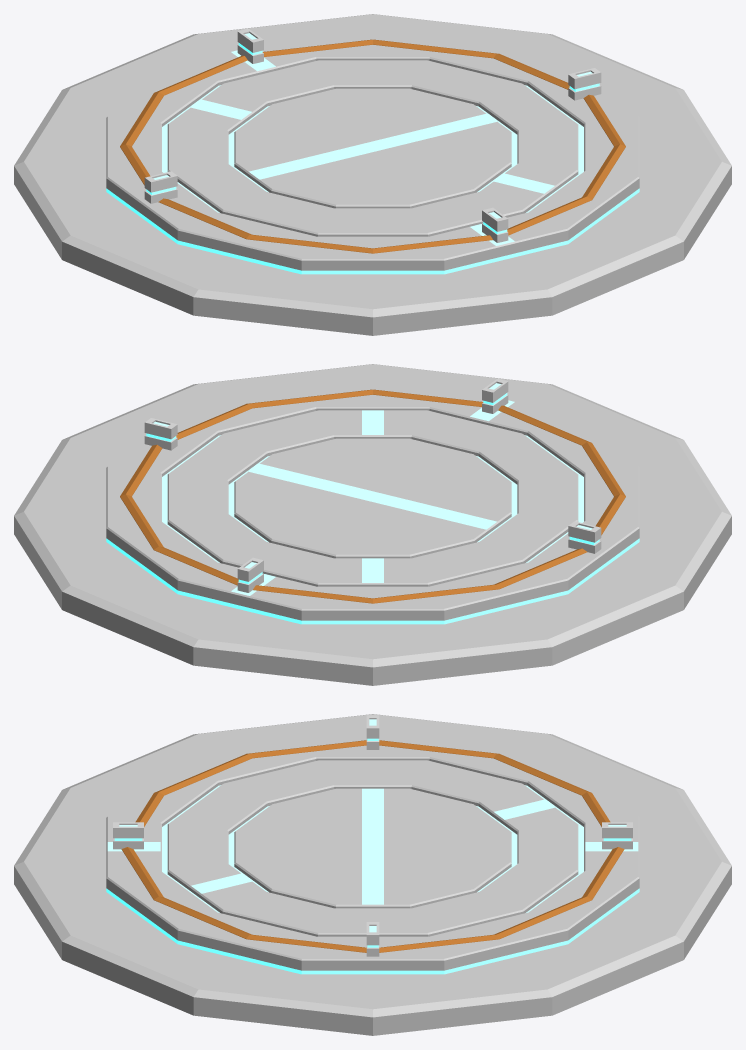
The model's file is Teletrasporto.fbx.
3 views of the same model, one above another, from view 1: azimuth 30°, elevation 25°; view 2: azimuth 150°, elevation 25°; view 3: azimuth 270°, elevation 25° (orthographic).
Parts seen in each view (by area): view 1: Base, Disco, Angoli; view 2: Base, Disco, Angoli; view 3: Base, Disco, Angoli.
Boxes of the visible parts, x1=… form: Base: x1=14, y1=14, x2=731, y2=335; Disco: x1=120, y1=39, x2=625, y2=253; Angoli: x1=144, y1=28, x2=601, y2=242; Base: x1=14, y1=364, x2=731, y2=685; Disco: x1=120, y1=389, x2=625, y2=603; Angoli: x1=144, y1=378, x2=601, y2=592; Base: x1=14, y1=714, x2=731, y2=1035; Disco: x1=121, y1=740, x2=624, y2=952; Angoli: x1=113, y1=715, x2=632, y2=956.
Size of the model in its own units: 2.6 by 2.6 by 0.2362.
